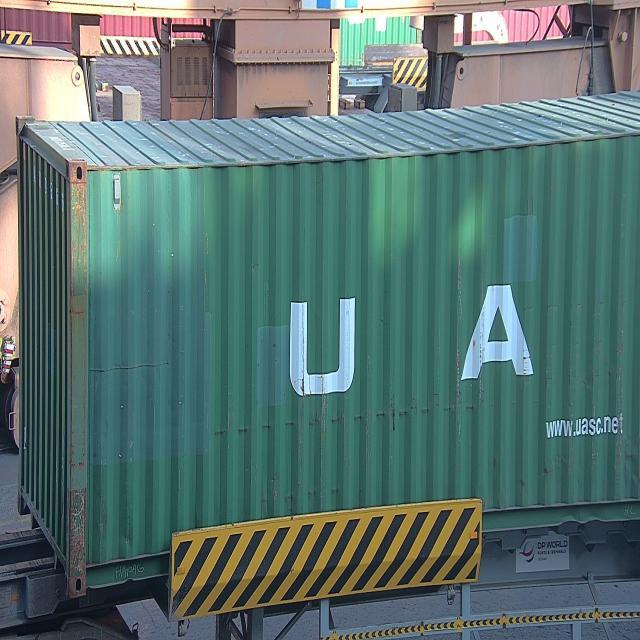rust: (65, 489, 99, 601), (64, 145, 90, 247)
